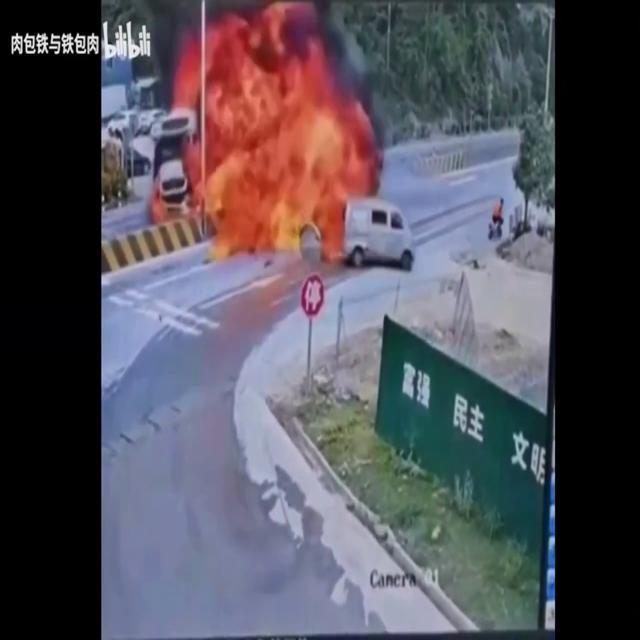single accident: (242, 148, 432, 300)
